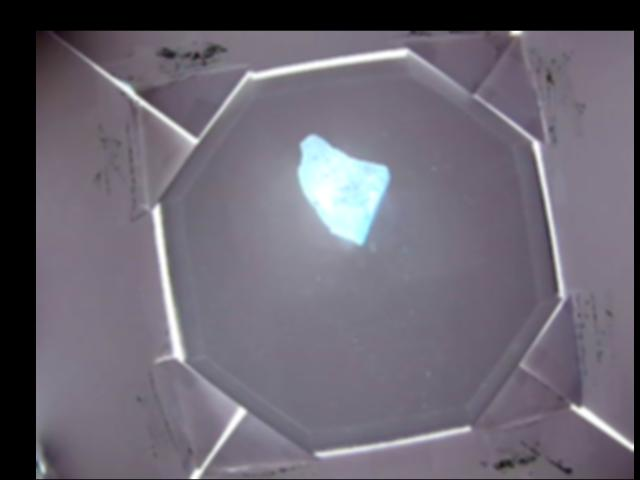Brisk: (298, 133, 389, 242)
